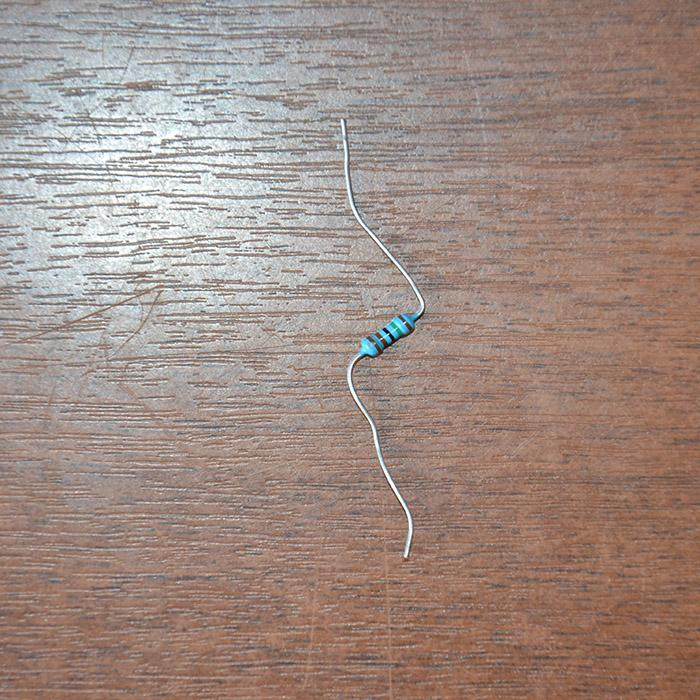resistor: (359, 310, 422, 358)
